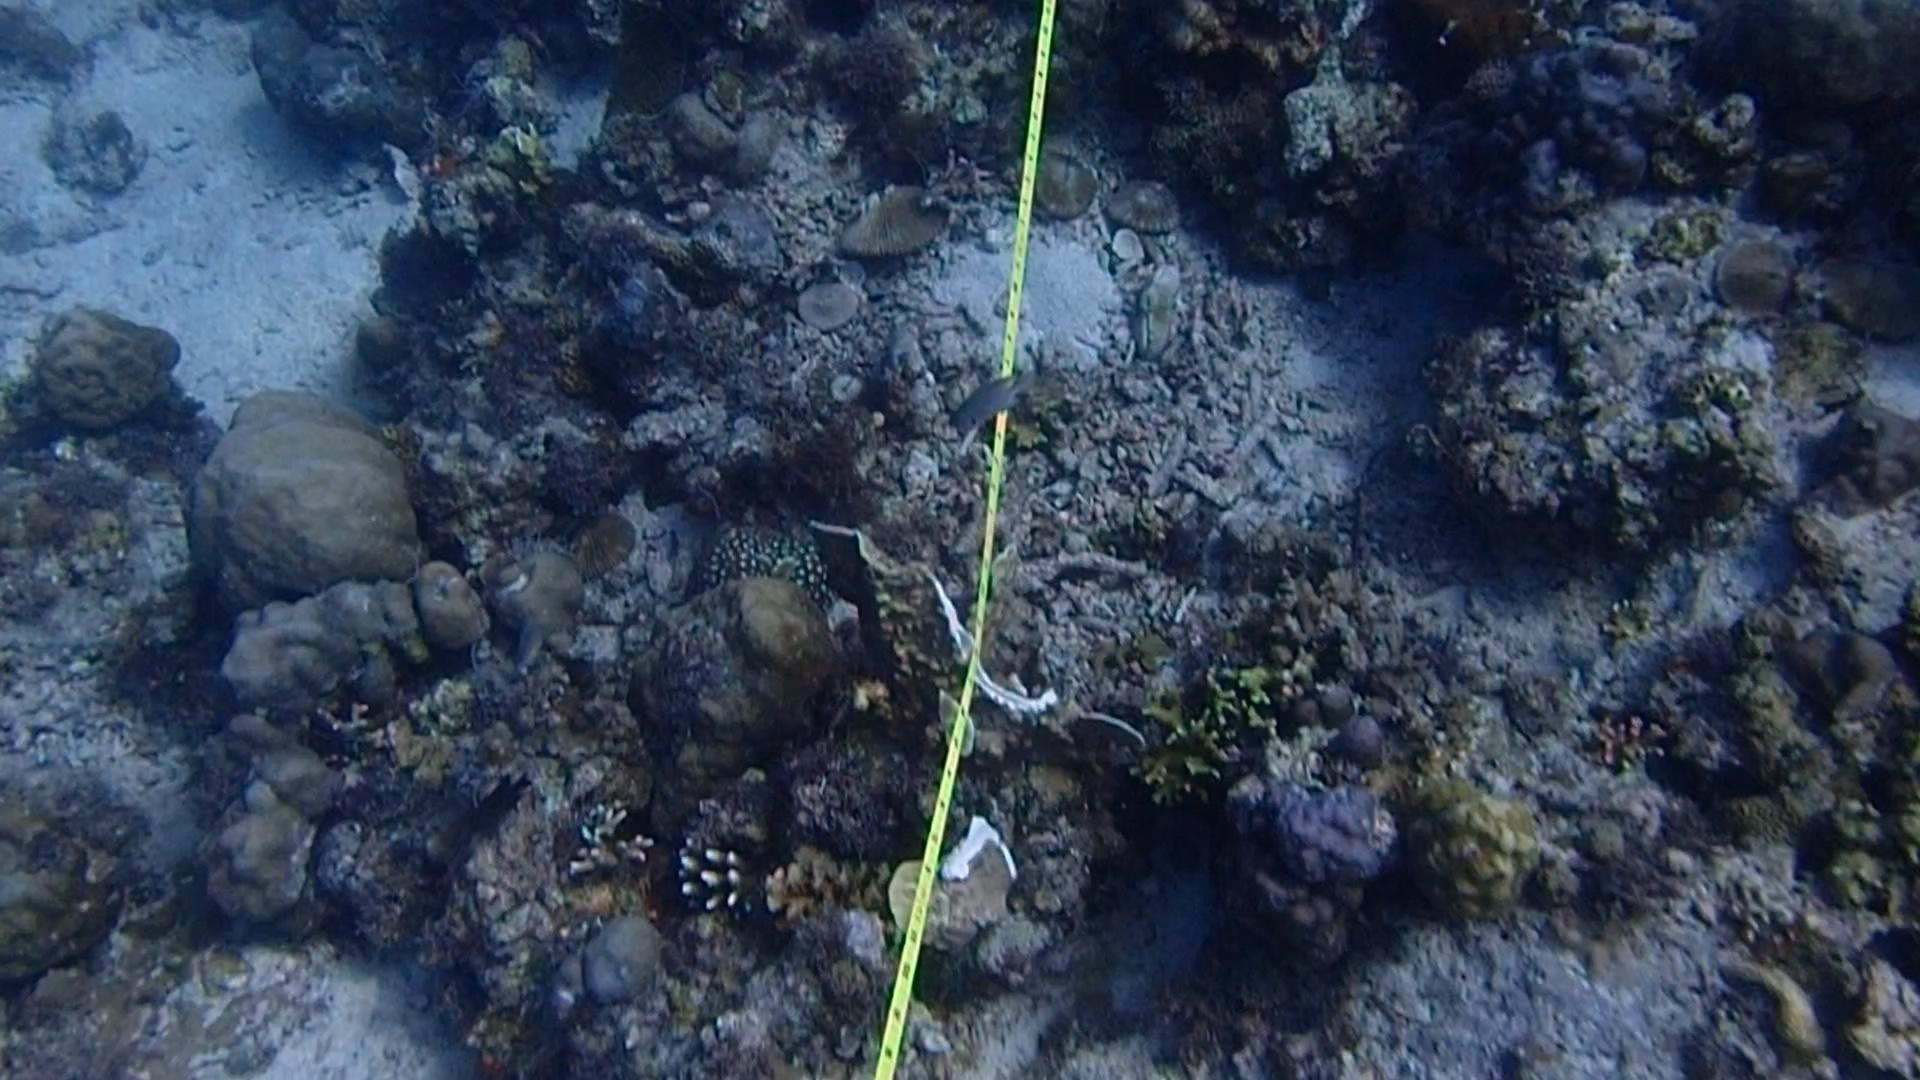Light Fish: (949, 357, 1042, 451)
